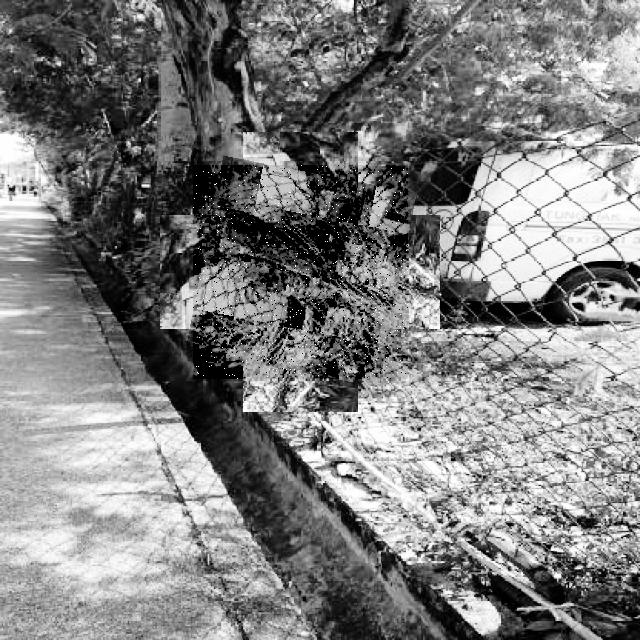anomaly-fence: (193, 165, 408, 379)
